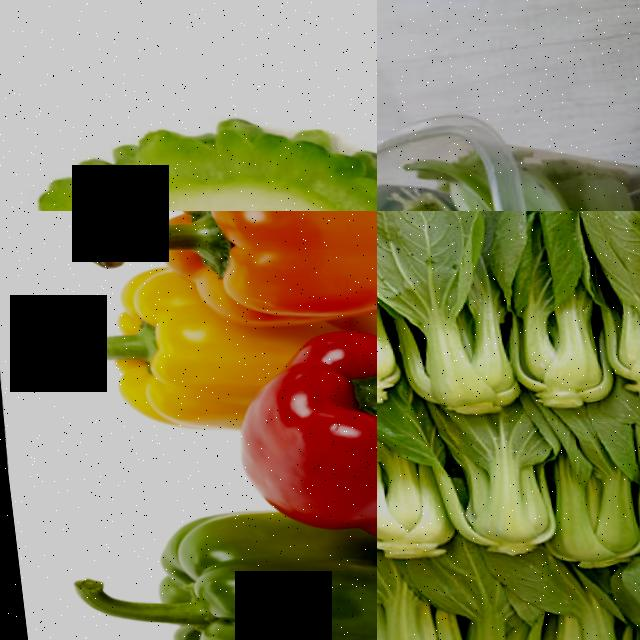bell pepper: (127, 525, 377, 640), (46, 278, 214, 423), (268, 315, 377, 531), (154, 211, 377, 315)
bitter gourd: (0, 60, 377, 211)
bok choy: (380, 211, 504, 416), (497, 211, 595, 395), (441, 405, 538, 559), (536, 389, 625, 552), (377, 402, 461, 573), (581, 211, 640, 388), (446, 554, 536, 640), (537, 558, 608, 640), (377, 574, 428, 640), (607, 557, 640, 640), (628, 391, 640, 548)
